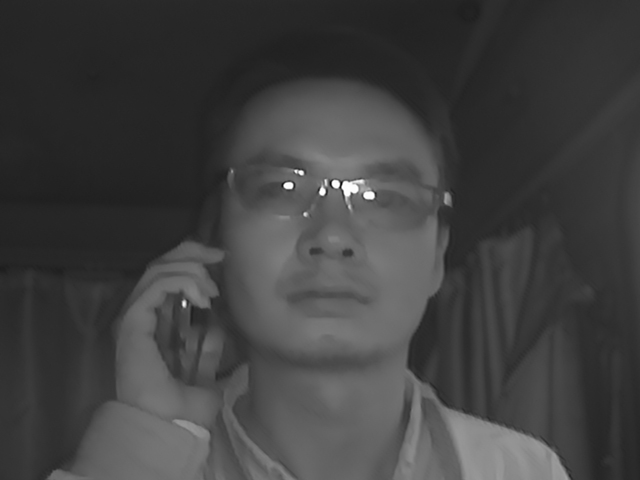hand: (109, 235, 233, 431)
